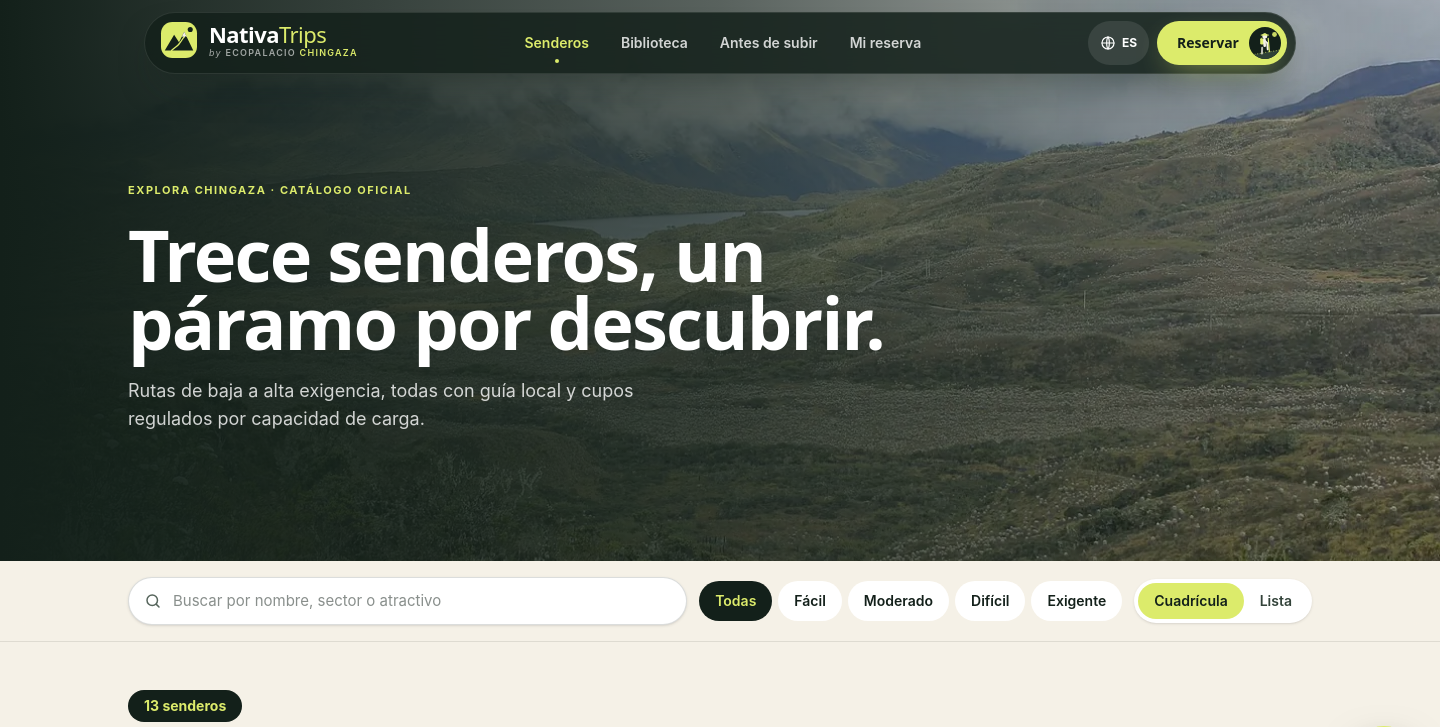
catálogo de senderos › cambia a vista de lista
Click the button "Lista" at (1276, 601), box [1244, 583, 1308, 619]
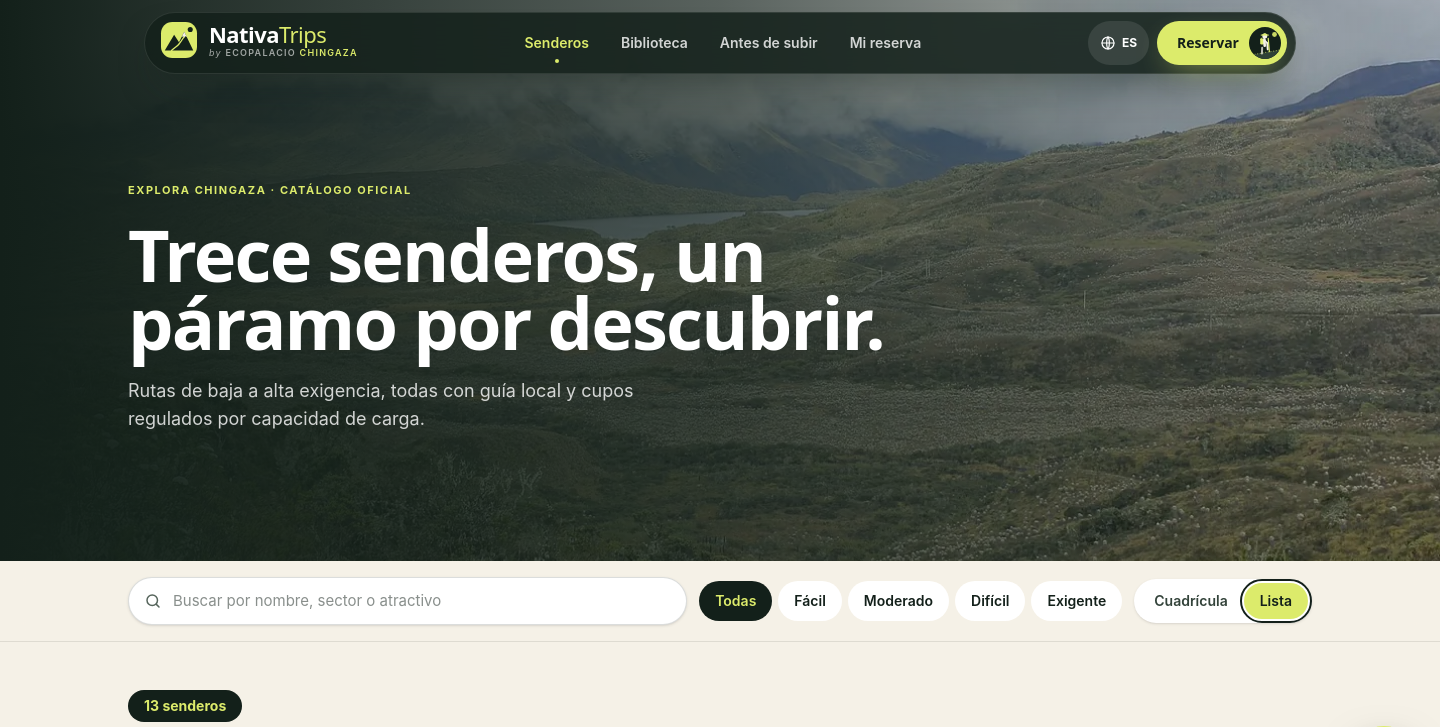
expect the number of links "Ver sendero" is 13: met
